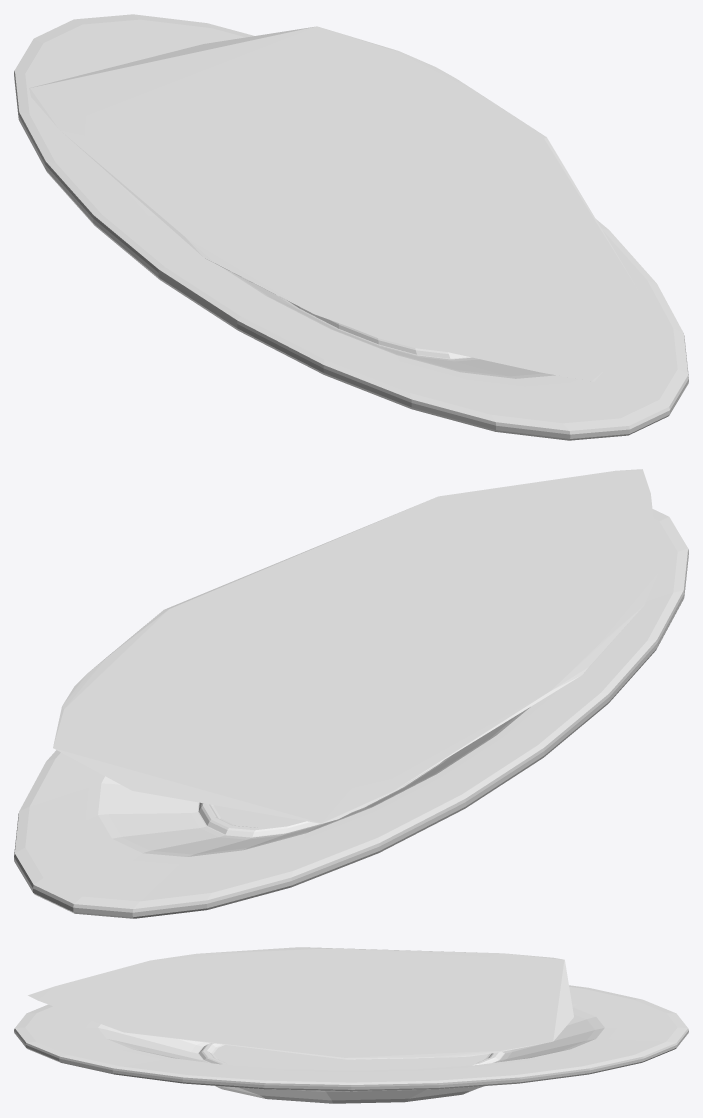
Rendered from plate_0.glb.
The picture shows the model from 3 angles, top to bottom: view 1: azimuth 30°, elevation 25°; view 2: azimuth 150°, elevation 25°; view 3: azimuth 270°, elevation 25°; orthographic projection. The views are drawn at different scales.
Visible parts, largest first — view 1: plate_0; view 2: plate_0; view 3: plate_0.
Boxes of the visible parts, bbox=[...] form: plate_0: bbox=[14, 14, 688, 440]; plate_0: bbox=[14, 469, 688, 918]; plate_0: bbox=[14, 947, 688, 1103].
Bounding box in the file's own units: 0.1183 × 0.0376 × 0.2955.
1 material, 1 textured.
